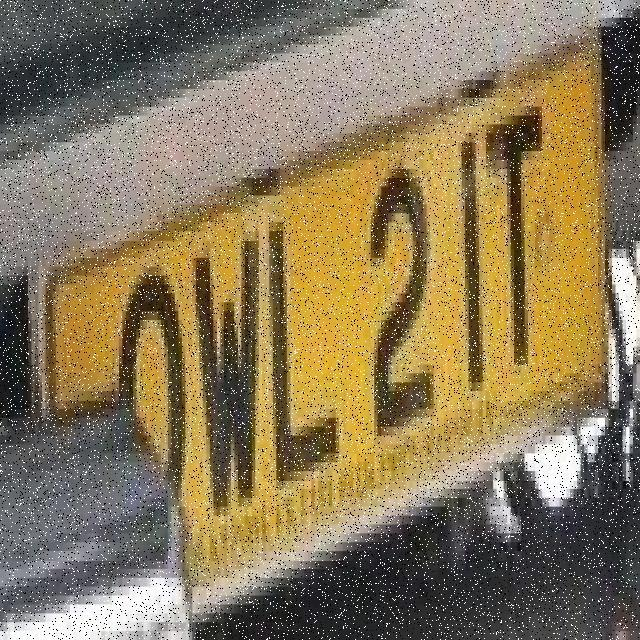LicensePlate: (47, 96, 583, 567)
